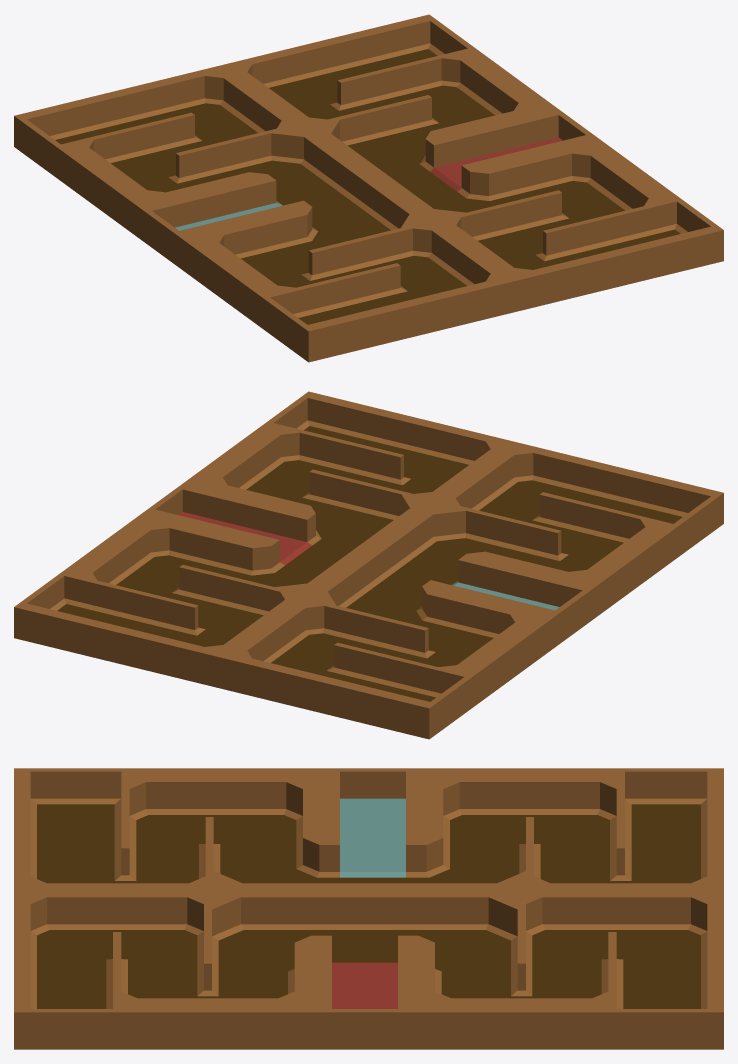
The model's file is TutorialZone V3.fbx.
3 renders of one model, top to bottom at view 1: azimuth 30°, elevation 25°; view 2: azimuth 150°, elevation 25°; view 3: azimuth 270°, elevation 25°, orthographic. The views are drawn at different scales.
Parts seen in each view (by area): view 1: Model; view 2: Model; view 3: Model.
Boxes of the visible parts, x1,y1,x2,y2 form: Model: (14, 14, 723, 362); Model: (14, 391, 723, 739); Model: (14, 768, 723, 1049).
Bounding box in the file's own units: 175 × 12.5 × 215.
